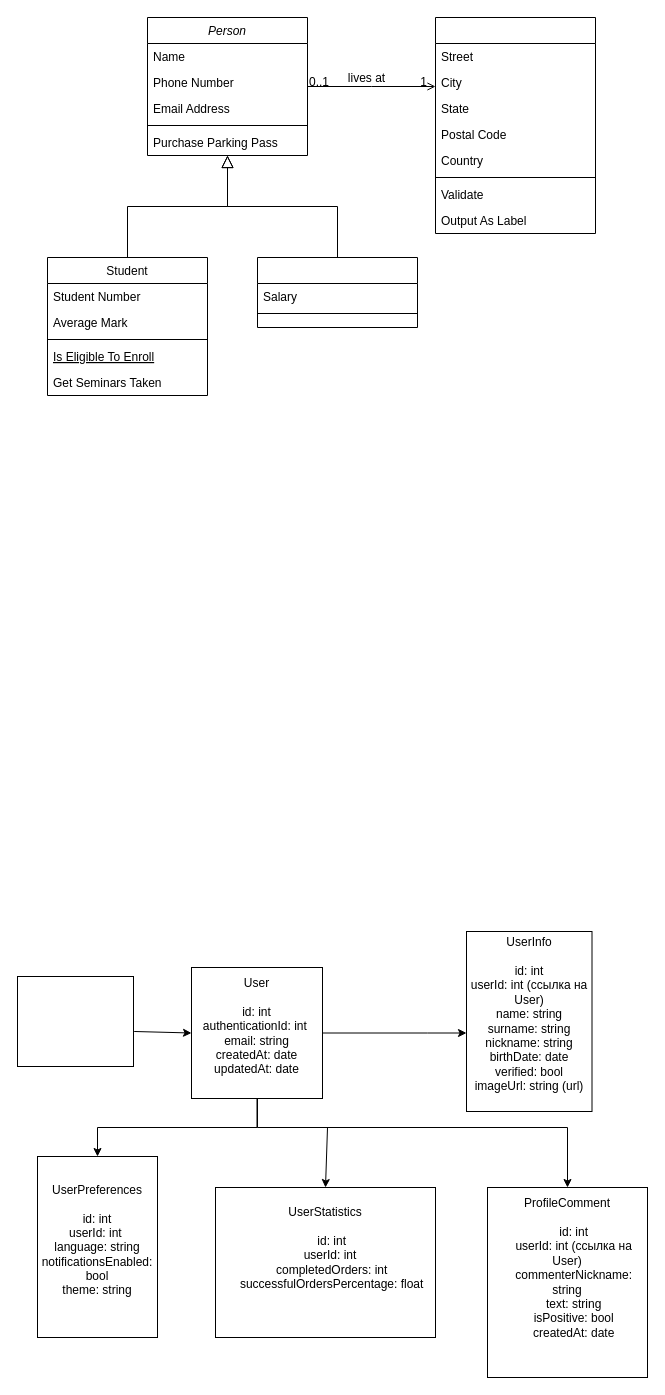
Image size: 665x1395. Some labels were removed from this diagram. Each missing label, with the box of its shape:
Address: (434, 16, 596, 234)
Authentication id: int login: string password: string: (16, 976, 134, 1066)
Professor: (256, 256, 418, 328)
